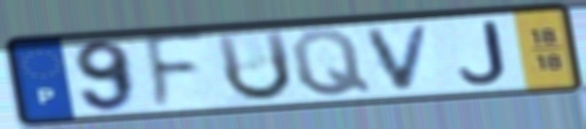9: (69, 37, 138, 115)
F: (140, 28, 212, 116)
J: (456, 19, 511, 86)
Q: (287, 26, 376, 99)
U: (211, 27, 296, 105)
V: (362, 22, 437, 93)
